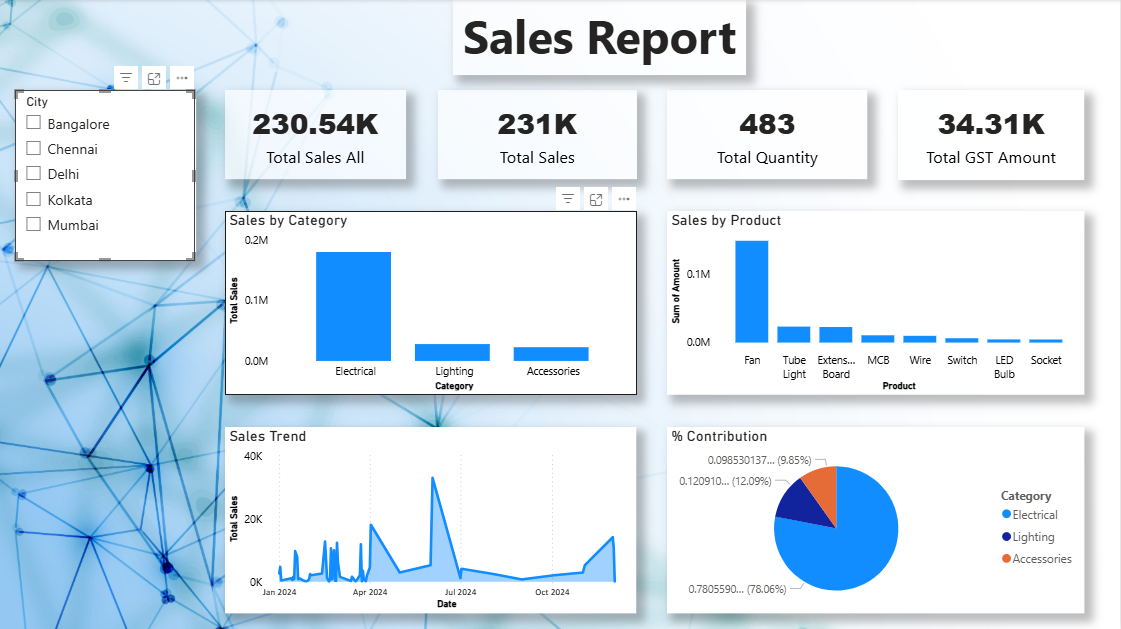

Layout of this report page (visuals, bound fields, positions):
{"tool":"powerbi","page":{"name":"Page 1","canvas":[1280,720],"ordinal":0},"visuals":[{"type":"card","fields":{"Values":["Sales.Total Sales All"]},"box":[257.5,104.5,206.5,102],"z":0},{"type":"card","fields":{"Values":["Sales.Total Sales"]},"box":[501,104.5,226.9,102],"z":1000},{"type":"card","fields":{"Values":["Sales.Total Quantity"]},"box":[762.4,104.5,229.5,102],"z":2000},{"type":"card","fields":{"Values":["Sales.Total GST Amount"]},"box":[1025.8,104.1,212.8,102.6],"z":3000},{"type":"columnChart","title":"Sales by Category","fields":{"Y":["Sum(Sales.Amount)"],"Category":["Sales.Category"]},"box":[257.5,242.2,470.4,210.4],"z":4000},{"type":"columnChart","title":"Sales by Product","fields":{"Y":["Sum(Sales.Amount)"],"Category":["Sales.Product"]},"box":[762.4,242.2,476.8,210.4],"z":5000},{"type":"stackedAreaChart","title":"Sales Trend","fields":{"Category":["Sales.Date"],"Y":["Sum(Sales.Amount)"]},"box":[257.5,489.6,470.4,212.9],"z":6000},{"type":"pieChart","title":"% Contribution","fields":{"Y":["Sales.% Contribution"],"Category":["Sales.Category"]},"box":[762.4,489.6,476.8,212.9],"z":7000},{"type":"slicer","fields":{"Values":["Sales.City"]},"box":[16.6,104.5,206.5,195.1],"z":8000},{"type":"textbox","box":[517.7,0,334.9,86.9],"z":8004}]}

Visuals, with their boxes in screenshot pixels (x1, y1, x2, y2), scaled from the page's 1280x720 canvas onto the 1121x629 screenshot:
card - Sales.Total Sales All: {"left": 226, "top": 91, "right": 406, "bottom": 180}
card - Sales.Total Sales: {"left": 439, "top": 91, "right": 637, "bottom": 180}
card - Sales.Total Quantity: {"left": 668, "top": 91, "right": 869, "bottom": 180}
card - Sales.Total GST Amount: {"left": 898, "top": 91, "right": 1085, "bottom": 181}
"Sales by Category" columnChart: {"left": 226, "top": 212, "right": 637, "bottom": 395}
"Sales by Product" columnChart: {"left": 668, "top": 212, "right": 1085, "bottom": 395}
"Sales Trend" stackedAreaChart: {"left": 226, "top": 428, "right": 637, "bottom": 614}
"% Contribution" pieChart: {"left": 668, "top": 428, "right": 1085, "bottom": 614}
slicer - Sales.City: {"left": 15, "top": 91, "right": 195, "bottom": 262}
textbox: {"left": 453, "top": 0, "right": 747, "bottom": 76}
